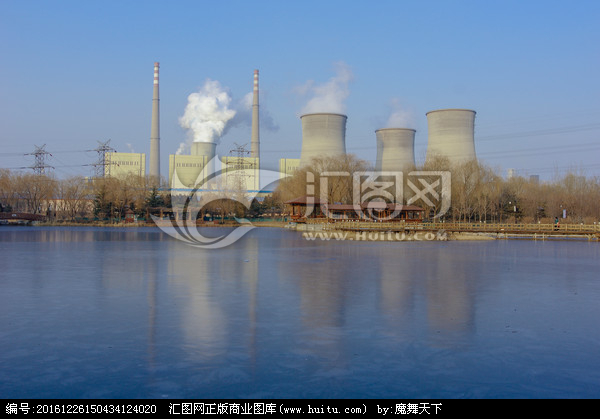dust: (168, 72, 261, 149), (280, 66, 374, 126), (378, 101, 423, 135)
